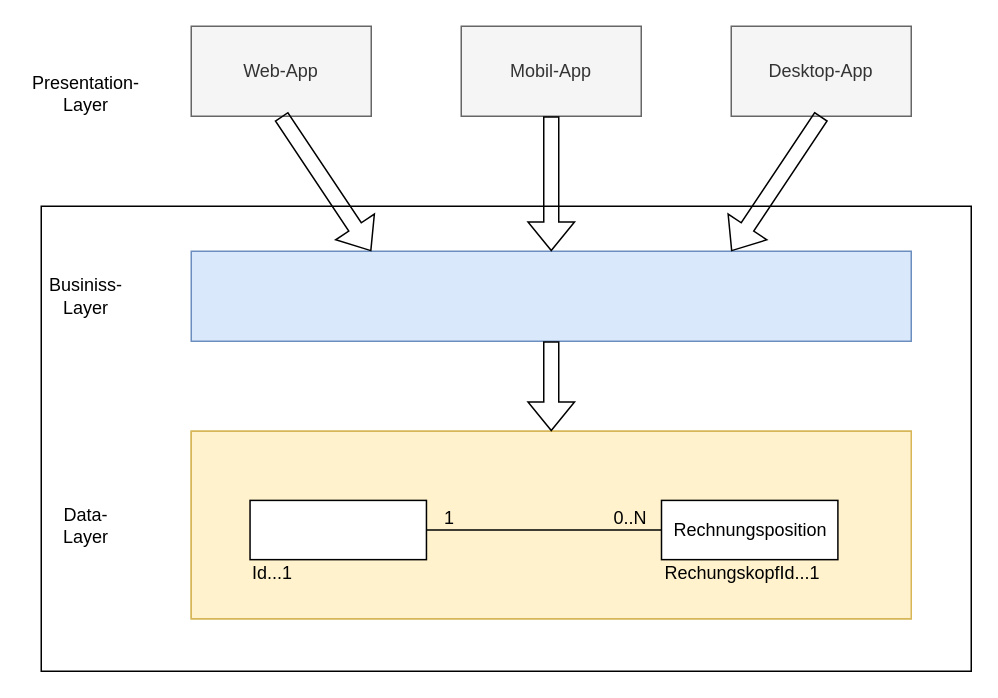
The diagram is 998 pixels wide and 698 high, and some of its shapes have lost their labels. Each missing label, with the box of its shape:
Rechnung: (190, 250, 911, 341)
Rechnungskopf: (249, 499, 426, 560)
